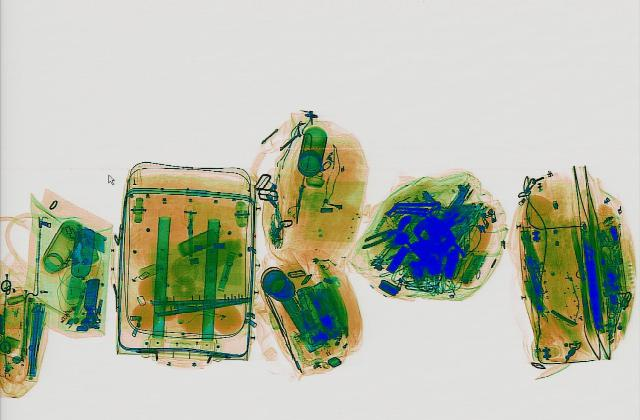Pliers: (355, 225, 403, 247)
